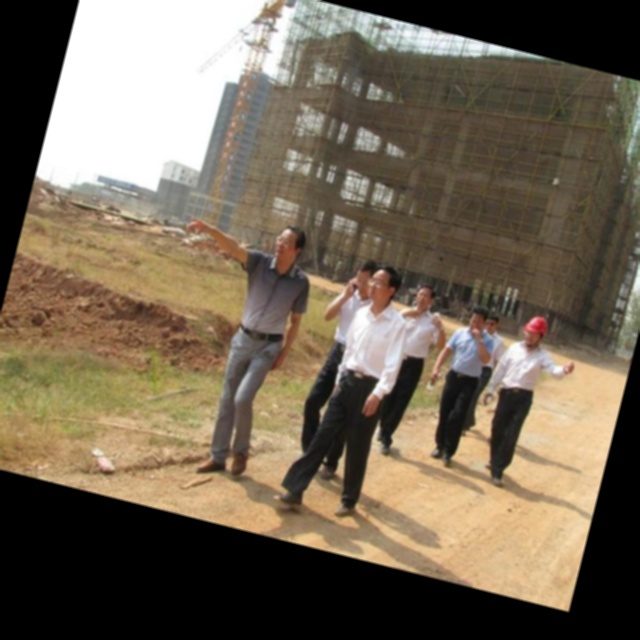Sin_Casco_Mascarrilla: (365, 262, 404, 313), (271, 223, 308, 270)
Sin_Chaleco: (230, 255, 315, 362), (336, 303, 412, 402)
